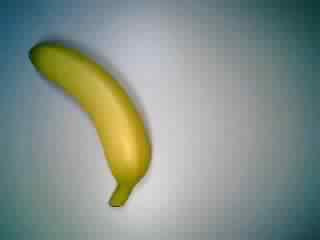banana: (25, 34, 155, 212)
